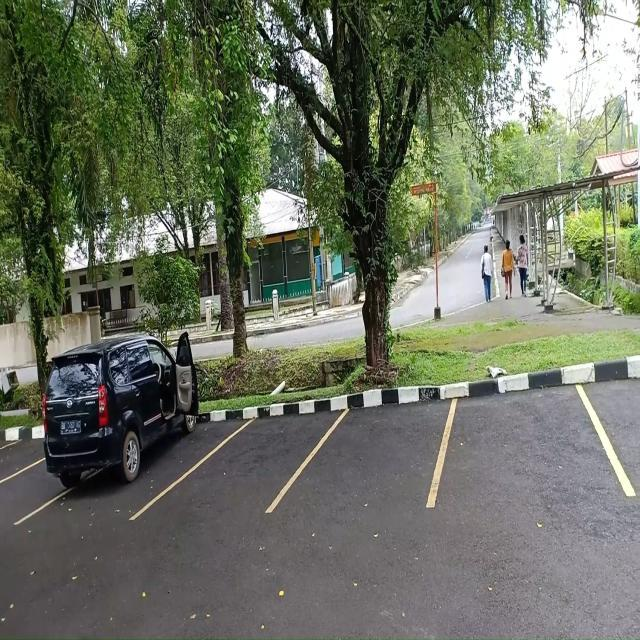empty: (432, 384, 593, 507), (303, 395, 445, 513), (192, 402, 306, 522)
occupied: (42, 372, 192, 515)
